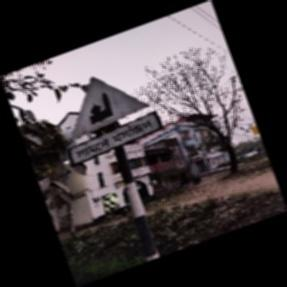Mosque in front: (66, 66, 169, 168)
